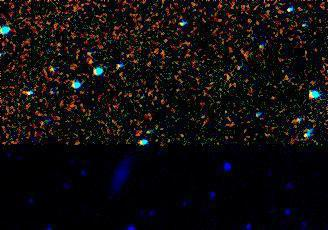star: (77, 46, 107, 76)
